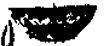Basket: (2, 1, 99, 46)
